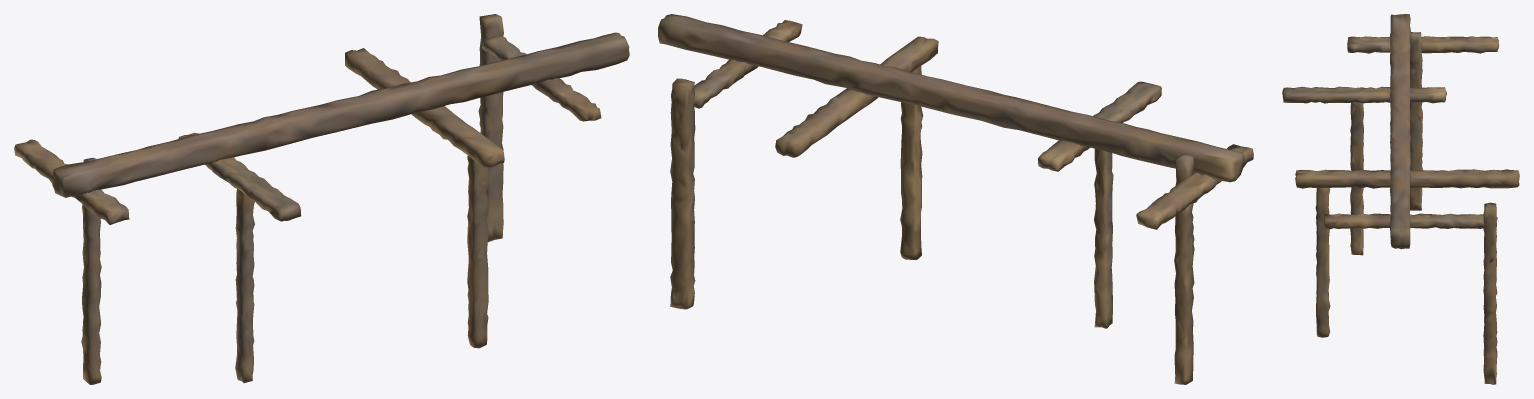
The model's file is Beams01.fbx.
3 renders of one model, left to right at view 1: azimuth 30°, elevation 25°; view 2: azimuth 150°, elevation 25°; view 3: azimuth 270°, elevation 25°, orthographic. The views are drawn at different scales.
Visible parts, largest first — view 1: Pillars1; view 2: Pillars1; view 3: Pillars1.
Part boxes in pixels (left/top/right/bottom): Pillars1: left=14, top=14, right=629, bottom=384; Pillars1: left=658, top=14, right=1253, bottom=384; Pillars1: left=1282, top=14, right=1519, bottom=384.
Bounding box in the file's own units: 734 × 283 × 336.
